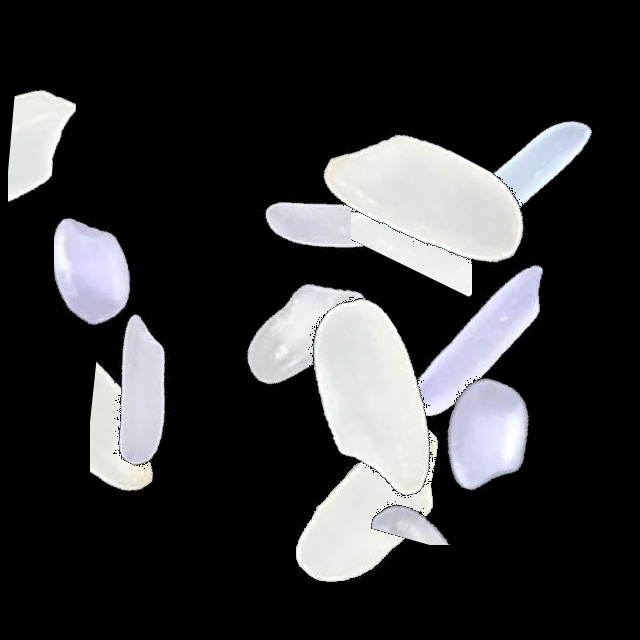Broken: (54, 140, 215, 390), (351, 76, 472, 326), (90, 290, 200, 540), (311, 446, 561, 545), (8, 37, 106, 287), (0, 42, 250, 138)
Full: (207, 92, 457, 342), (16, 266, 266, 516), (243, 381, 493, 631), (180, 211, 430, 461), (388, 56, 638, 306), (344, 214, 594, 464), (304, 70, 554, 320), (364, 310, 614, 560), (249, 277, 499, 527)
